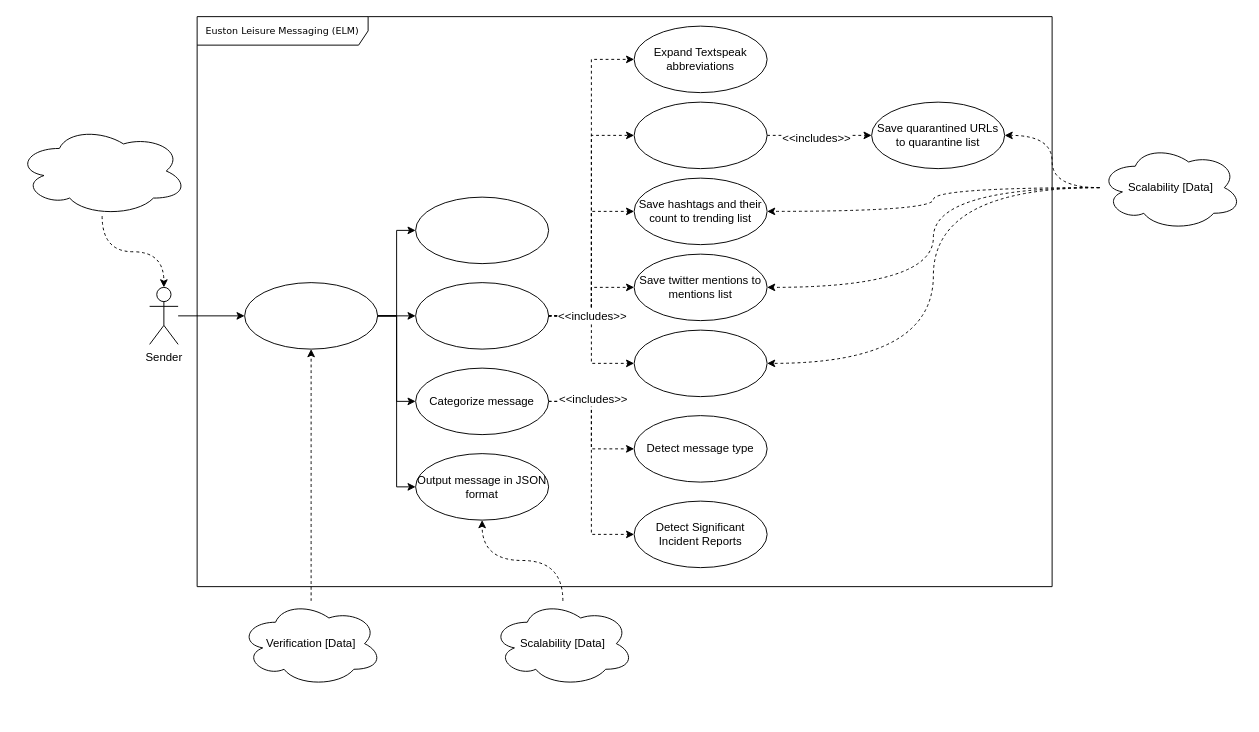
Image size: 1259x732. Some labels were removed from this diagram. Here are the shapes that lost their labels. From the top down, the box of each, then its label:
(633, 101, 767, 169): Quarantine URLs
(16, 125, 188, 216): Scalability [Customer]
(415, 196, 549, 264): Validate message
(244, 282, 378, 349): Send SMS/Email/Tweet message
(415, 282, 549, 349): Sanitize message
(633, 329, 767, 397): Save sport center code and nature of incident to SIR list
